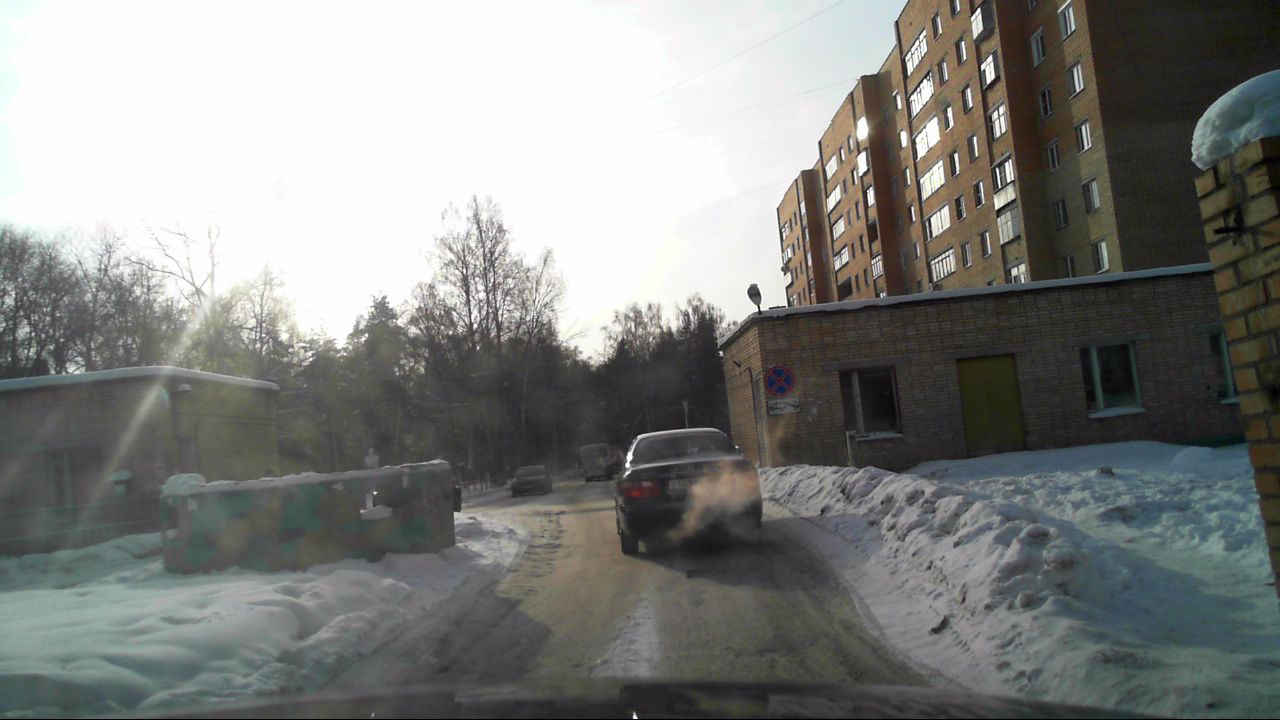No Parking: (764, 366, 795, 396)
